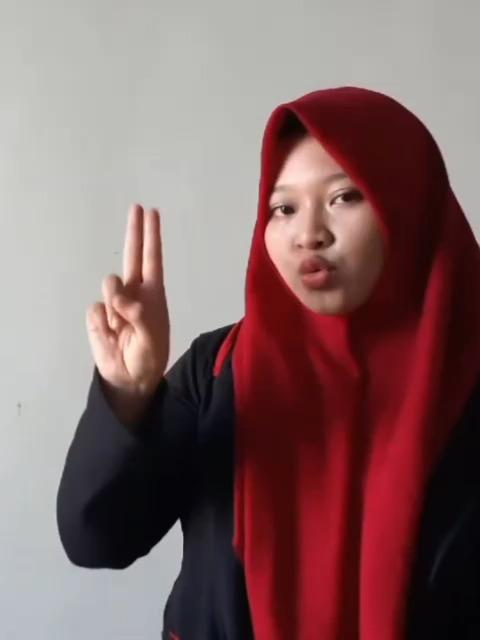U: (82, 200, 174, 394)
